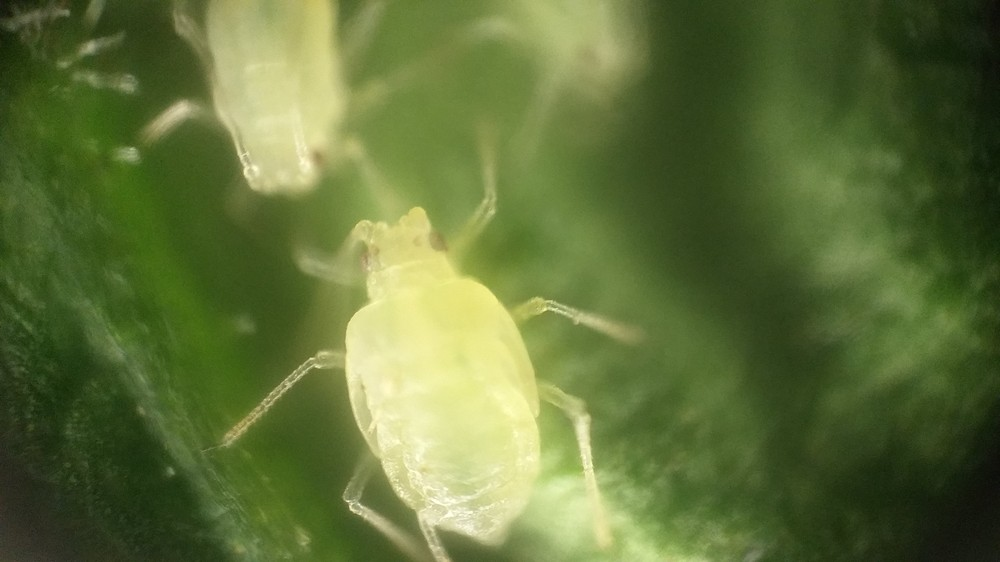Pulgon: (228, 179, 677, 562), (141, 1, 389, 188)
